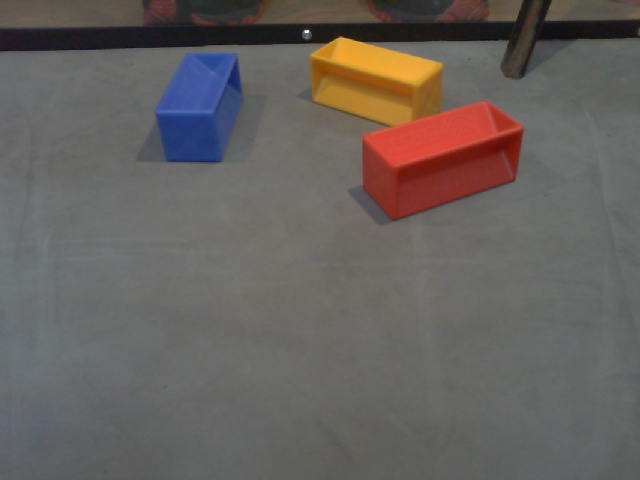BlueSample: (152, 47, 247, 172)
RedSample: (358, 99, 526, 220)
YellowSample: (307, 35, 446, 128)
